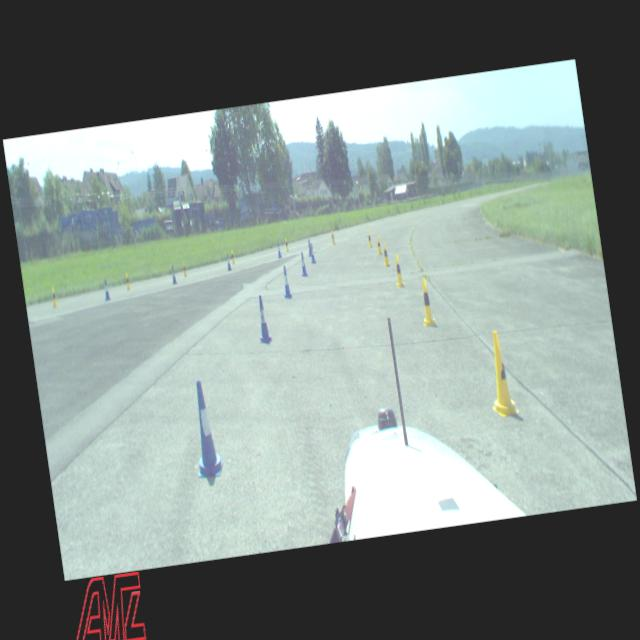blue_cone: (185, 378, 225, 480), (254, 294, 273, 346), (280, 266, 293, 300), (299, 251, 308, 277), (102, 278, 111, 301), (308, 243, 316, 264), (170, 265, 178, 285), (225, 253, 232, 271), (276, 242, 282, 258), (307, 239, 312, 257)
yellow_cone: (482, 328, 520, 418), (417, 276, 437, 328), (392, 253, 406, 289), (382, 242, 391, 268), (50, 285, 59, 308), (375, 234, 383, 256), (125, 271, 132, 291), (367, 230, 373, 248), (182, 260, 188, 278), (230, 249, 237, 264), (330, 230, 336, 246), (284, 238, 289, 252)
